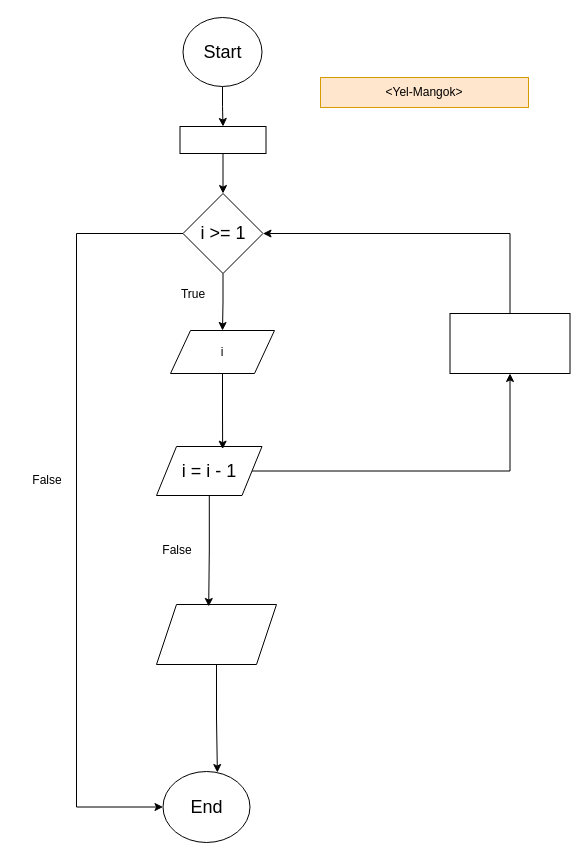
Some shapes in this 587 by 860 pixel diagram are drawn without their labels. Here are the shapes that lost their labels. From the top down, the box of each, then its label:
(179, 126, 266, 154): i =10
(449, 312, 570, 374): i - -
(156, 604, 276, 664): LIFT OFF
